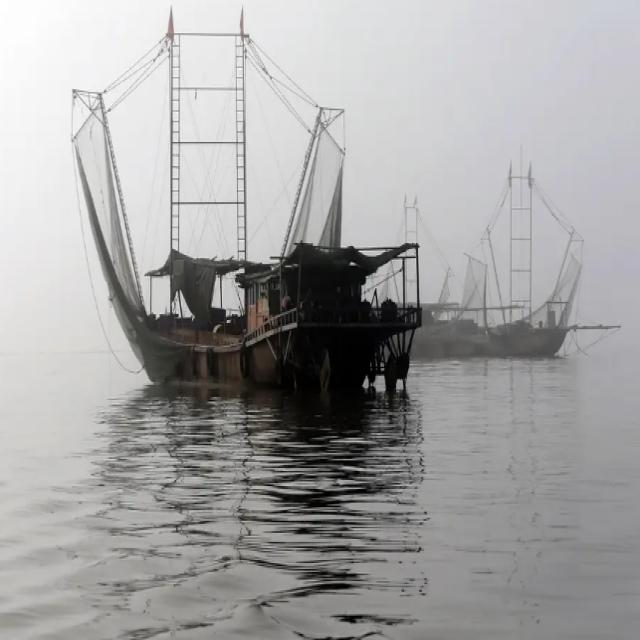fishing boat: (124, 170, 416, 393), (388, 194, 609, 359)
